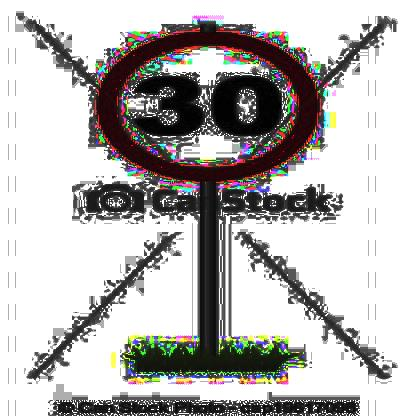Speed Limit -30-: (92, 25, 325, 186)
